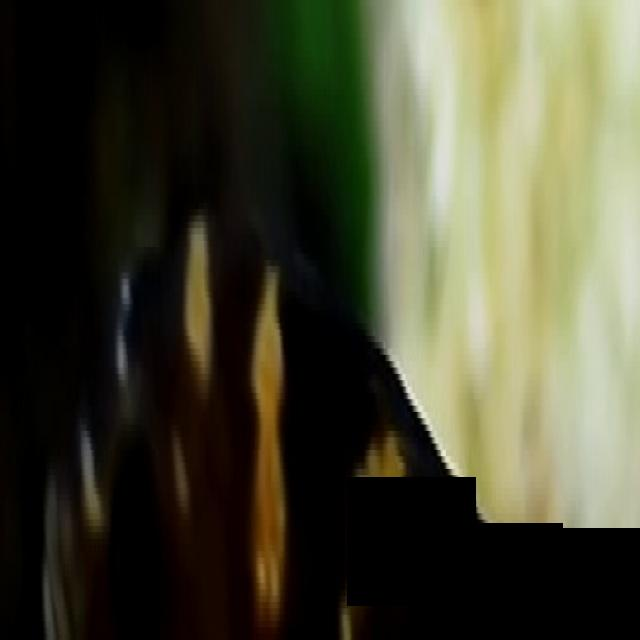fish: (1, 6, 640, 640)
